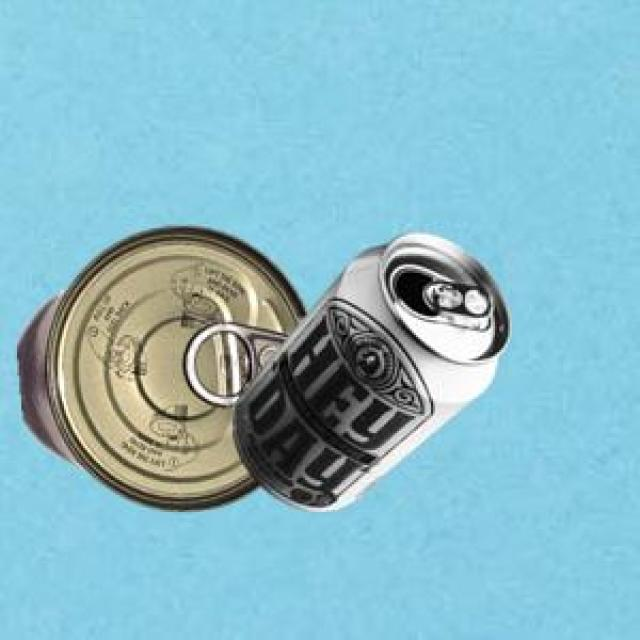logam: (14, 223, 304, 509), (229, 231, 507, 509)
